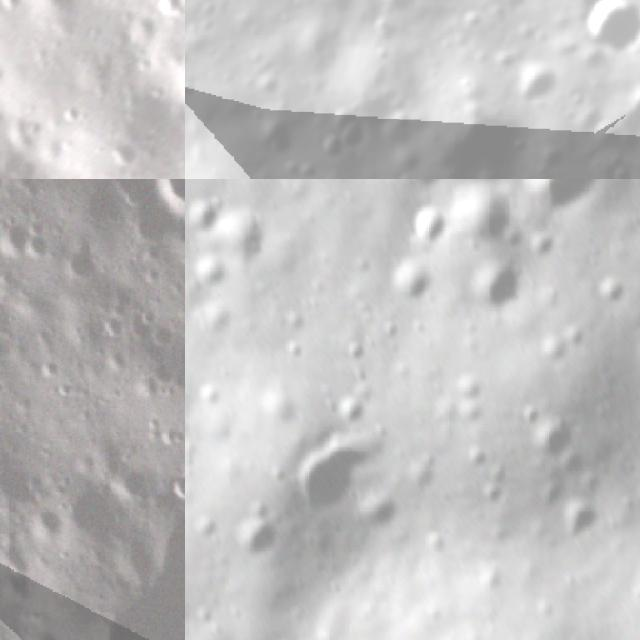crater: (62, 498, 185, 640), (399, 78, 541, 179), (0, 103, 121, 179), (282, 430, 379, 524), (454, 179, 534, 251), (310, 104, 387, 178), (58, 464, 129, 544), (576, 0, 640, 78), (223, 510, 296, 572), (515, 179, 618, 222), (466, 254, 528, 320), (522, 412, 586, 470), (383, 251, 441, 311), (511, 54, 569, 113), (554, 494, 611, 552), (0, 444, 44, 515), (185, 182, 232, 248), (133, 179, 185, 238), (355, 484, 407, 542), (107, 458, 158, 509), (406, 199, 455, 250), (54, 240, 102, 291), (190, 252, 237, 293), (27, 496, 66, 543), (332, 388, 372, 432), (18, 218, 53, 266), (32, 0, 86, 31), (143, 312, 181, 352), (0, 215, 30, 263), (98, 341, 133, 378), (35, 351, 69, 385), (94, 308, 127, 342), (144, 353, 177, 387), (172, 31, 185, 109), (163, 461, 185, 507), (19, 619, 65, 640), (401, 179, 452, 197), (134, 302, 162, 334), (0, 0, 26, 14)
